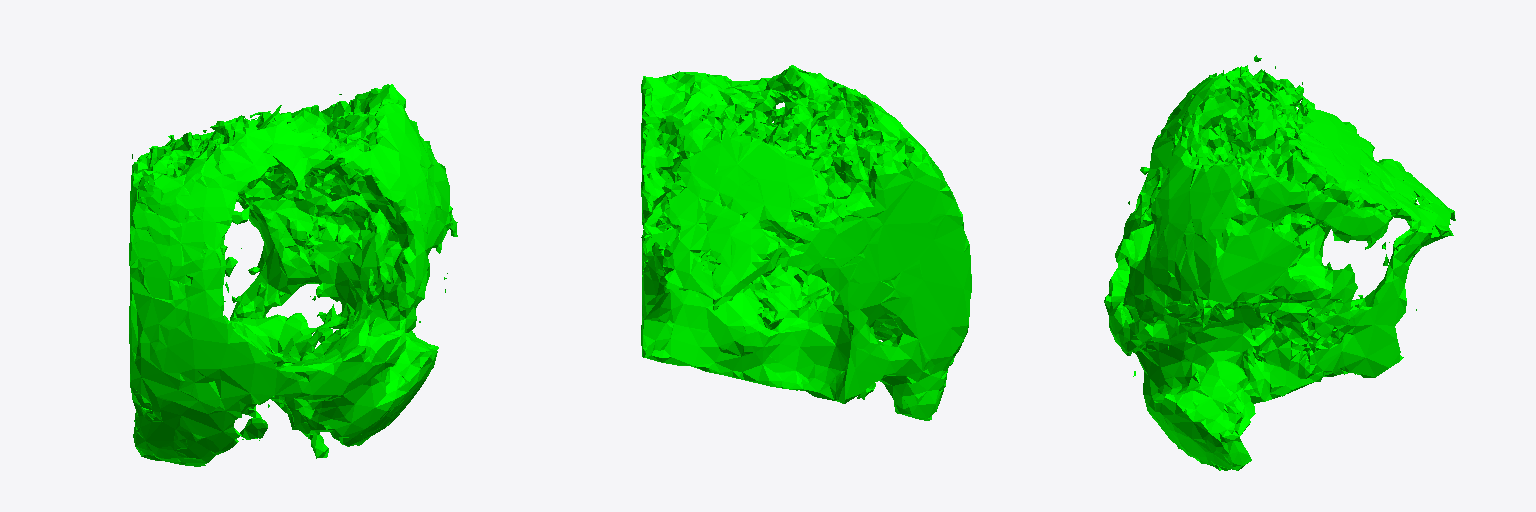
File: B939XXXX-1_base_38.obj
The picture shows the model from 3 angles: view 1: azimuth 30°, elevation 25°; view 2: azimuth 150°, elevation 25°; view 3: azimuth 270°, elevation 25°; orthographic projection.
Visible parts, largest first — view 1: 38_base; view 2: 38_base; view 3: 38_base.
Boxes of the visible parts, box(x1,y1,x2,y2) form: 38_base: box(129, 84, 457, 466); 38_base: box(641, 65, 971, 420); 38_base: box(1104, 55, 1455, 470).
Size of the model in its own units: 219 by 216 by 203.